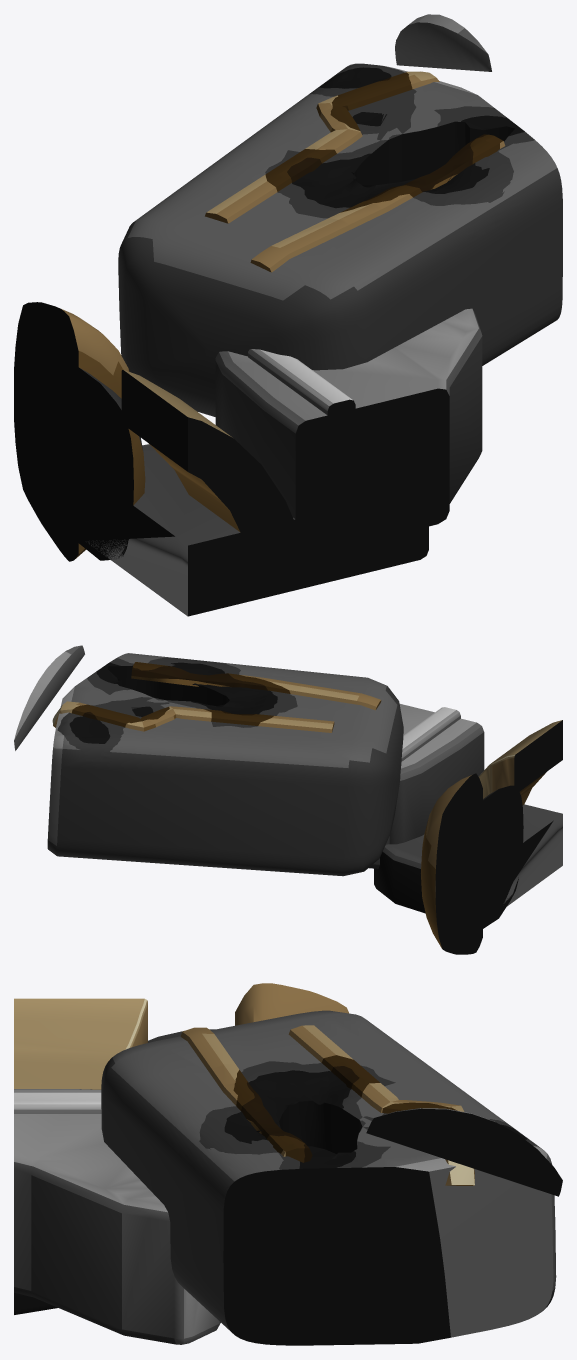
Rendered from tusk_boss_168.glb.
The picture shows the model from 3 angles, top to bottom: view 1: azimuth 30°, elevation 25°; view 2: azimuth 150°, elevation 25°; view 3: azimuth 270°, elevation 25°; orthographic projection. The views are drawn at different scales.
Parts seen in each view (by area): view 1: tusk_boss_168; view 2: tusk_boss_168; view 3: tusk_boss_168.
Boxes of the visible parts, <box> form: tusk_boss_168: <box>14,14,562,616</box>; tusk_boss_168: <box>14,645,562,954</box>; tusk_boss_168: <box>14,983,562,1345</box>.
Bounding box in the file's own units: 24 × 17.06 × 23.61.
